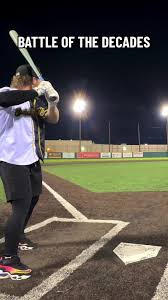baseball bat: (5, 28, 57, 100)
